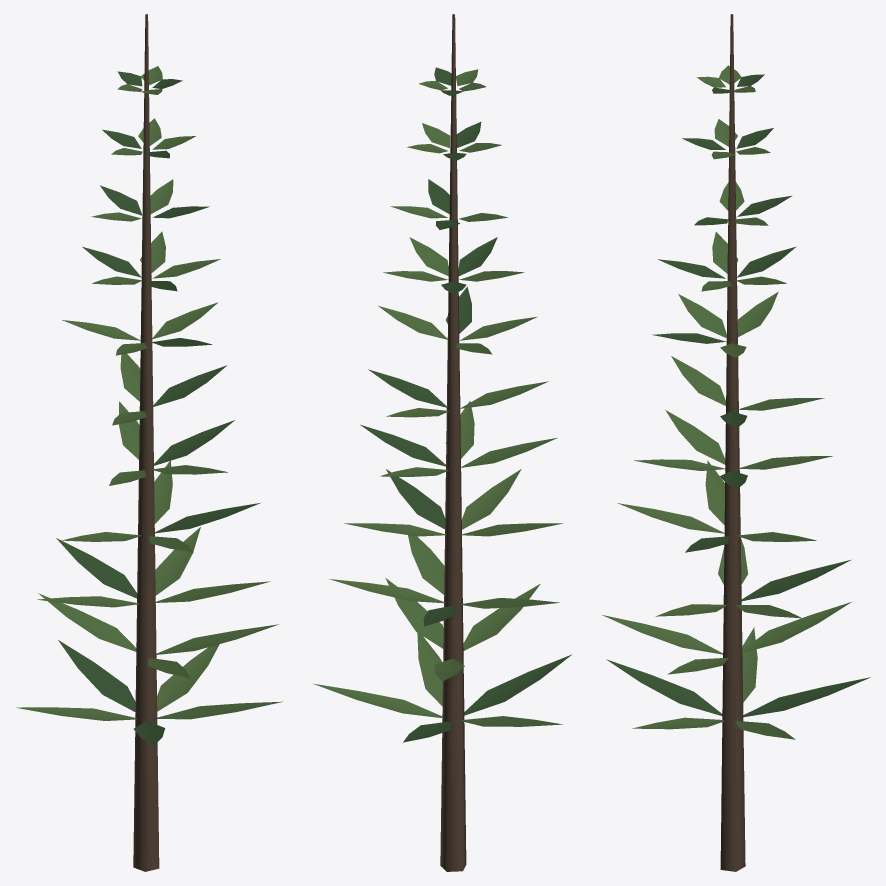
File: norfolk-pine-far.glb
3 renders of one model, left to right at view 1: azimuth 30°, elevation 25°; view 2: azimuth 150°, elevation 25°; view 3: azimuth 270°, elevation 25°, orthographic.
Parts seen in each view (by area): view 1: norfolk-pine-far-norfolk-light, norfolk-pine-far-norfolk-bark, norfolk-pine-far-norfolk; view 2: norfolk-pine-far-norfolk-light, norfolk-pine-far-norfolk-bark, norfolk-pine-far-norfolk; view 3: norfolk-pine-far-norfolk-light, norfolk-pine-far-norfolk-bark, norfolk-pine-far-norfolk.
Boxes of the visible parts, box(x1,y1,x2,y2) form: norfolk-pine-far-norfolk-light: box(16, 66, 282, 720); norfolk-pine-far-norfolk-bark: box(133, 14, 159, 871); norfolk-pine-far-norfolk: box(56, 71, 261, 745); norfolk-pine-far-norfolk-light: box(313, 69, 563, 726); norfolk-pine-far-norfolk-bark: box(440, 14, 466, 871); norfolk-pine-far-norfolk: box(360, 67, 571, 742); norfolk-pine-far-norfolk-light: box(602, 65, 851, 739); norfolk-pine-far-norfolk-bark: box(720, 14, 745, 871); norfolk-pine-far-norfolk: box(606, 74, 870, 717).
Size of the model in its own units: 7.38 by 26 by 7.5.
